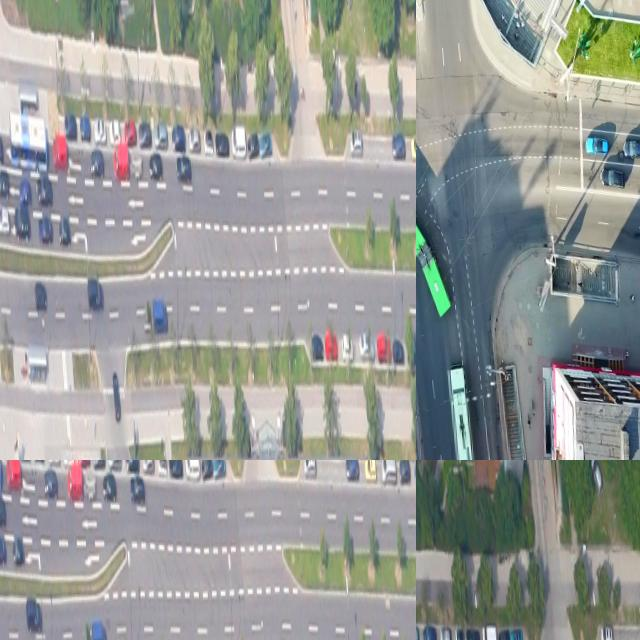UAI: (13, 202, 31, 241), (600, 166, 626, 191), (51, 133, 68, 171), (112, 144, 129, 180), (25, 597, 42, 632), (87, 277, 104, 310), (66, 466, 83, 499), (152, 297, 168, 332), (588, 460, 603, 497), (128, 474, 145, 506), (230, 125, 246, 158), (36, 176, 53, 207), (175, 152, 192, 183), (111, 370, 121, 422), (37, 213, 53, 245), (584, 135, 609, 155), (358, 331, 374, 362), (170, 121, 186, 152), (5, 460, 21, 490), (43, 467, 58, 498), (101, 473, 117, 501), (89, 149, 104, 178), (376, 333, 391, 362), (123, 117, 137, 148), (621, 138, 640, 160), (148, 151, 162, 180), (153, 121, 167, 150), (138, 120, 152, 149), (391, 130, 405, 158), (214, 131, 229, 157), (379, 460, 395, 484), (349, 128, 362, 157), (34, 281, 47, 310), (11, 538, 24, 567), (58, 219, 71, 247), (311, 333, 324, 361), (324, 332, 337, 360), (391, 336, 404, 364), (259, 131, 273, 157), (93, 115, 106, 143), (19, 177, 31, 206), (341, 332, 353, 361), (108, 116, 120, 145), (79, 113, 91, 142), (64, 112, 77, 138), (131, 153, 143, 179), (84, 473, 96, 499), (90, 621, 106, 640), (183, 460, 199, 479), (188, 128, 201, 151), (203, 127, 213, 156), (0, 202, 9, 234), (398, 460, 410, 484), (248, 132, 259, 158), (142, 306, 152, 334), (344, 460, 358, 480), (363, 460, 376, 481), (301, 460, 315, 479), (481, 624, 497, 640), (211, 460, 225, 478), (421, 624, 436, 640), (168, 460, 182, 477), (0, 171, 9, 197), (200, 460, 212, 479), (438, 623, 451, 640), (599, 624, 612, 640), (409, 131, 416, 160), (0, 534, 6, 565), (0, 496, 6, 527), (509, 627, 523, 640), (465, 627, 479, 640), (124, 460, 139, 472), (156, 460, 166, 476), (497, 628, 510, 640), (338, 0, 353, 10), (141, 460, 153, 472), (80, 626, 90, 640), (453, 626, 463, 640), (106, 460, 120, 469), (91, 460, 104, 469), (76, 460, 90, 468)
car: (416, 172, 450, 321), (7, 106, 49, 174), (447, 363, 475, 460)
